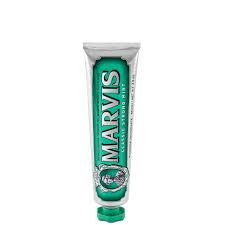toothpaste: (78, 38, 144, 223)
